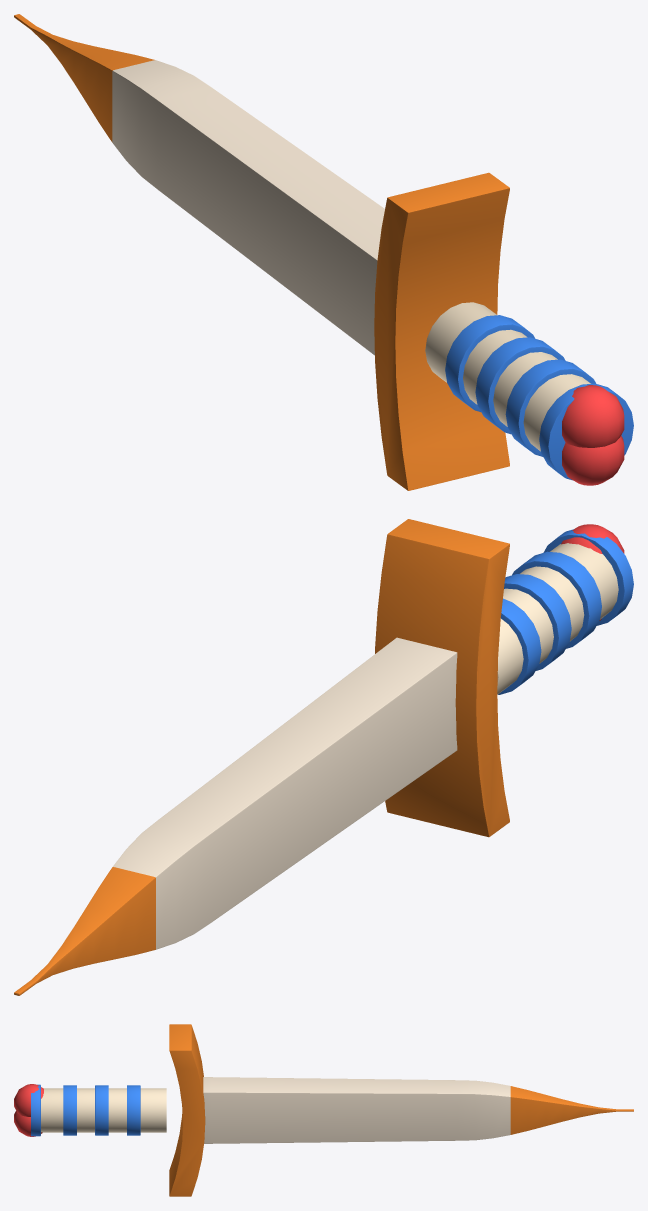
Rendered from Sword_QuarryShank.glb.
The picture shows the model from 3 angles, top to bottom: view 1: azimuth 30°, elevation 25°; view 2: azimuth 150°, elevation 25°; view 3: azimuth 270°, elevation 25°; orthographic projection. The views are drawn at different scales.
Parts seen in each view (by area): view 1: Sword_QuarryShank; view 2: Sword_QuarryShank; view 3: Sword_QuarryShank.
Boxes of the visible parts, x1,y1,x2,y2 form: Sword_QuarryShank: (14,14,633,490); Sword_QuarryShank: (14,519,633,995); Sword_QuarryShank: (14,1024,633,1196).
Bounding box in the file's own units: 0.1001 × 0.2602 × 1.
Materials: 1 (1 with a texture image).
